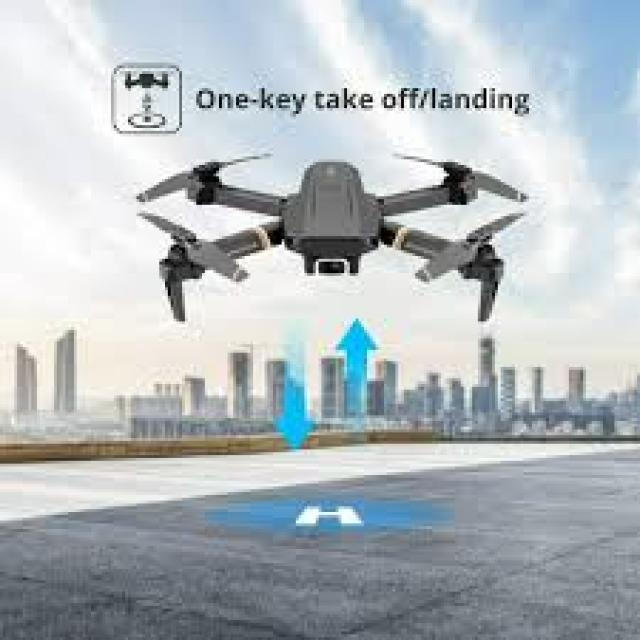drone: (126, 129, 522, 341)
